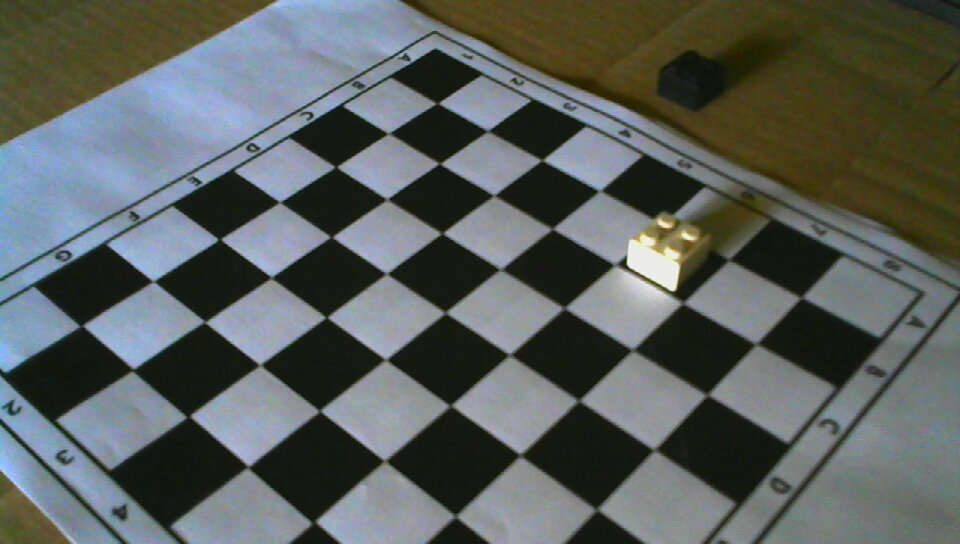bp: (656, 50, 724, 109)
wp: (627, 211, 715, 293)
